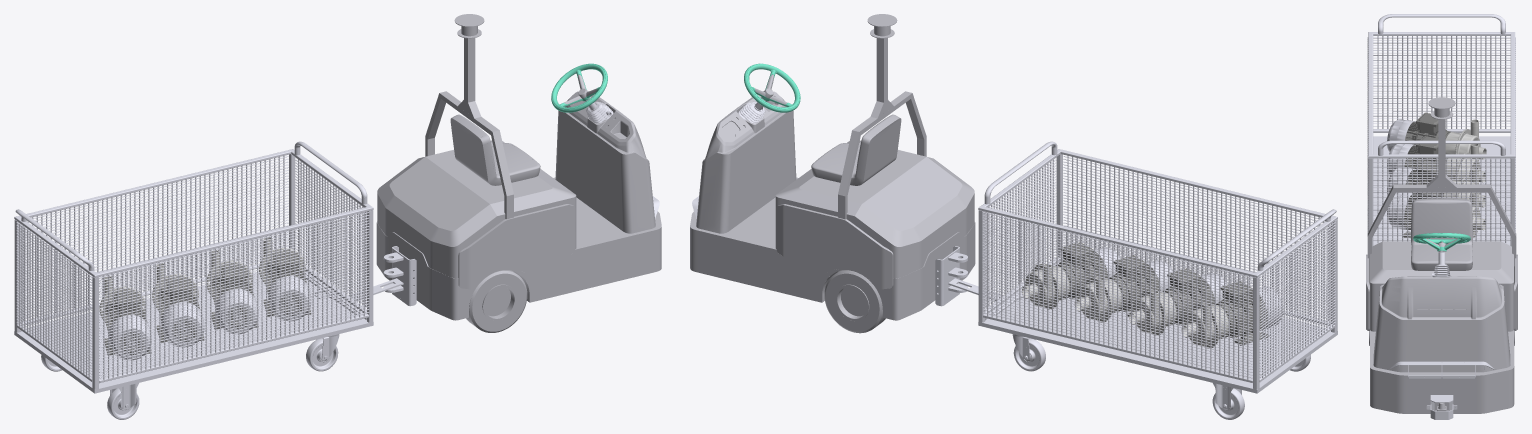
File: s5-amr50.glb
The picture shows the model from 3 angles, left to right: view 1: azimuth 30°, elevation 25°; view 2: azimuth 150°, elevation 25°; view 3: azimuth 270°, elevation 25°; orthographic projection. The views are drawn at different scales.
Parts seen in each view (by area): view 1: L17; view 2: L17; view 3: L17.
Boxes of the visible parts, <box> form: L17: <box>14,14,661,419</box>; L17: <box>690,14,1337,419</box>; L17: <box>1366,14,1517,419</box>.
Size of the model in its own units: 1.64 by 0.7239 by 0.3871.
Materials: 1 (1 with a texture image).
